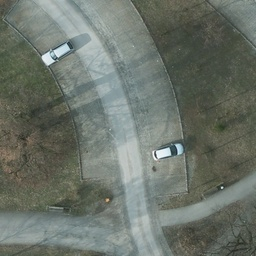car: (41, 39, 73, 65), (152, 140, 183, 160)
